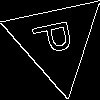P: (31, 15, 82, 57)
